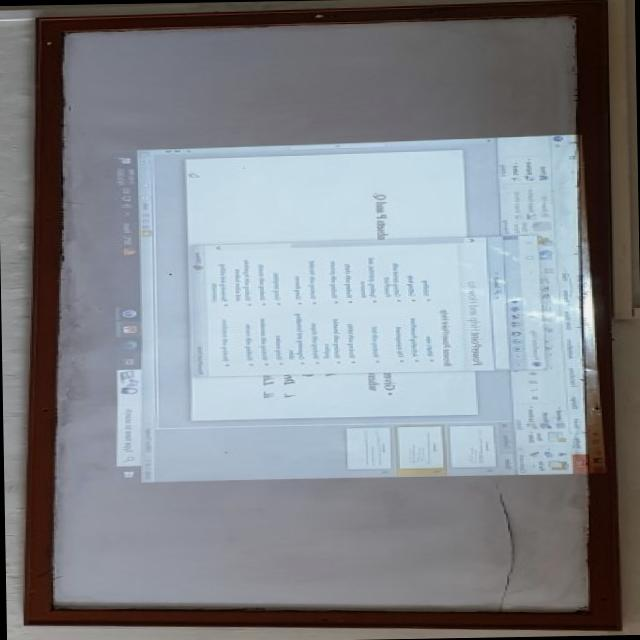Slide: (104, 133, 606, 487)
White-board: (35, 6, 606, 623)
